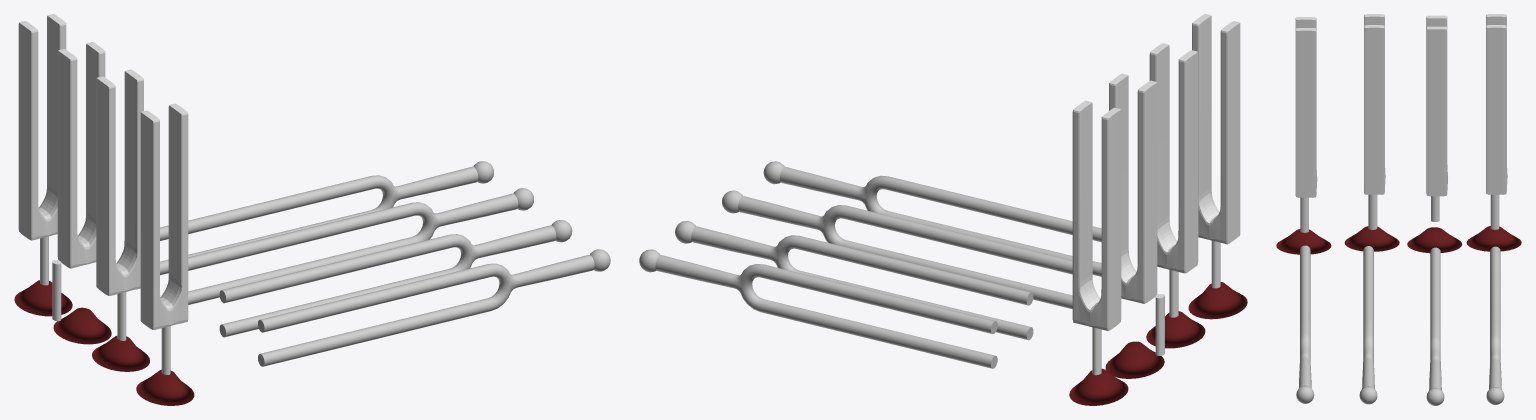
Rendered from tuning-forks.glb.
The picture shows the model from 3 angles, left to right: view 1: azimuth 30°, elevation 25°; view 2: azimuth 150°, elevation 25°; view 3: azimuth 270°, elevation 25°; orthographic projection. The views are drawn at different scales.
Parts seen in each view (by area): view 1: Cube.003, tuning_fork_low.003, Cube.002, Cube, Cube.001, tuning_fork_low.001, tuning_fork_low.002, tuning_fork_low, Cylinder.003, Cylinder.007, Cylinder.005, Cylinder.001 (+1 smaller); view 2: Cube, tuning_fork_low, Cube.003, Cube.002, tuning_fork_low.002, Cube.001, tuning_fork_low.001, tuning_fork_low.003, Cylinder.003, Cylinder.001, Cylinder.007, Cylinder.005 (+1 smaller); view 3: Cube.001, Cube.003, Cube.002, Cube, tuning_fork_low, tuning_fork_low.001, tuning_fork_low.002, tuning_fork_low.003, Cylinder.003, Cylinder.001, Cylinder.005, Cylinder.007 (+4 smaller).
Part boxes in pixels (x1,y1,x2,y2): Cube.003: (140, 103, 188, 329); tuning_fork_low.003: (258, 249, 610, 366); Cube.002: (96, 69, 143, 295); Cube: (18, 14, 66, 240); Cube.001: (57, 42, 105, 268); tuning_fork_low.001: (188, 188, 533, 304); tuning_fork_low.002: (219, 220, 572, 337); tuning_fork_low: (160, 161, 493, 275); Cylinder.003: (53, 307, 111, 344); Cylinder.007: (136, 369, 194, 405); Cylinder.005: (92, 336, 149, 371); Cylinder.001: (14, 280, 72, 316); Cube: (1072, 100, 1121, 330); tuning_fork_low: (639, 249, 997, 368); Cube.003: (1192, 14, 1240, 244); Cube.002: (1149, 43, 1198, 273); tuning_fork_low.002: (722, 190, 1072, 309); Cube.001: (1109, 73, 1157, 303); tuning_fork_low.001: (675, 221, 1033, 340); tuning_fork_low.003: (763, 161, 1101, 276); Cylinder.003: (1105, 341, 1164, 378); Cylinder.001: (1069, 368, 1128, 405); Cylinder.007: (1188, 282, 1247, 319); Cylinder.005: (1146, 311, 1205, 348); Cube.001: (1426, 15, 1447, 196); Cube.003: (1295, 17, 1317, 197); Cube.002: (1364, 14, 1385, 194); Cube: (1486, 14, 1507, 194); tuning_fork_low: (1486, 246, 1504, 404); tuning_fork_low.001: (1426, 247, 1444, 405); tuning_fork_low.002: (1359, 246, 1377, 404); tuning_fork_low.003: (1296, 245, 1314, 403); Cylinder.003: (1407, 227, 1462, 253); Cylinder.001: (1466, 226, 1521, 251); Cylinder.005: (1344, 226, 1399, 251); Cylinder.007: (1276, 229, 1331, 254).
Size of the model in its own units: 5.8 by 3.26 by 3.23.
